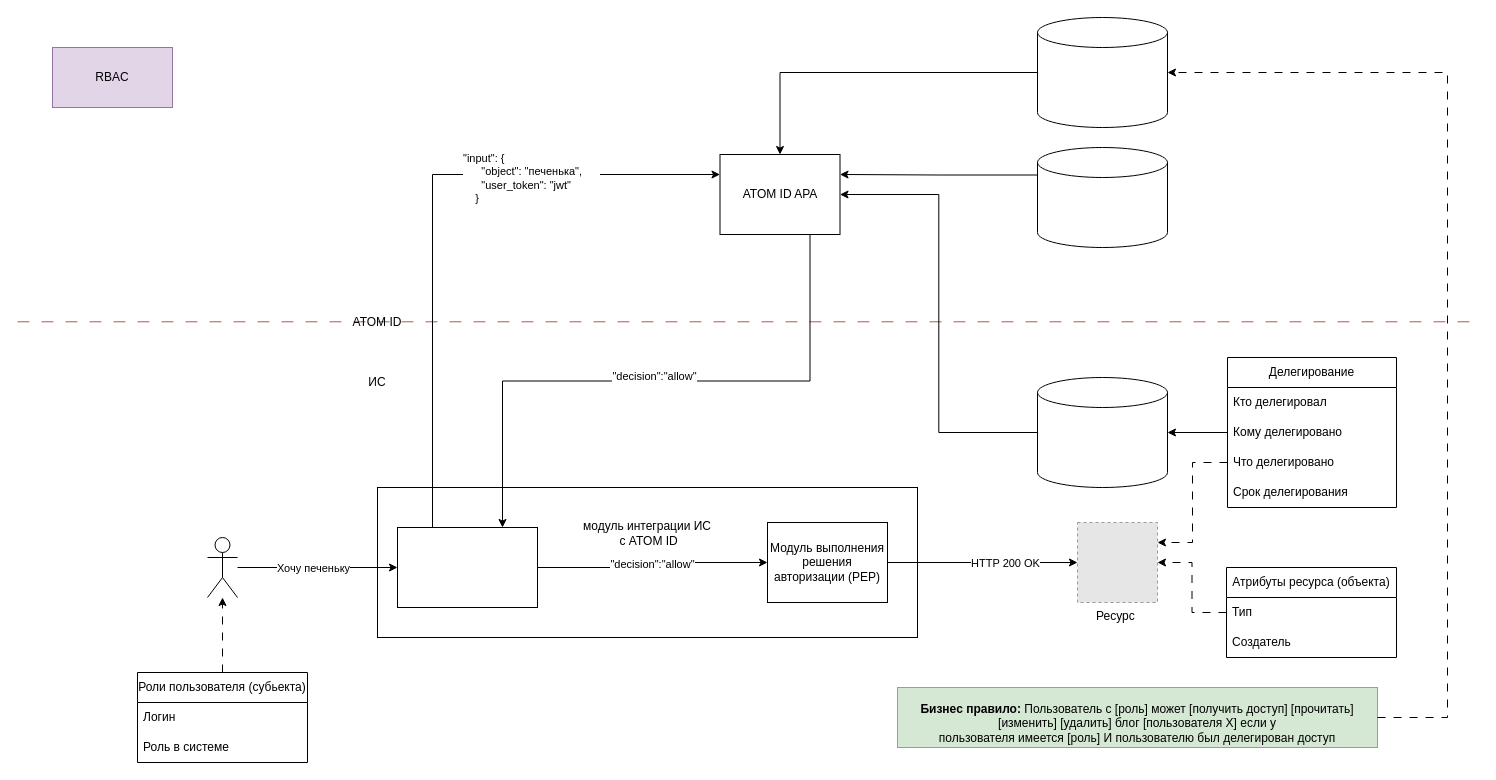
Image size: 1496x780. Some labels were removed from this diagram. Grey dashed boxes stand in for pictures. The centre of each missing label's shape, as x and y in pixels:
БД информация c динамическими атрибутами объектов: (x=1102, y=432)
Запрос решения APA: (x=467, y=567)
Политика: (x=1102, y=72)
Пользователь: (x=222, y=567)
Ролевая модель: Матрица доступа RBAC: (x=1102, y=197)
